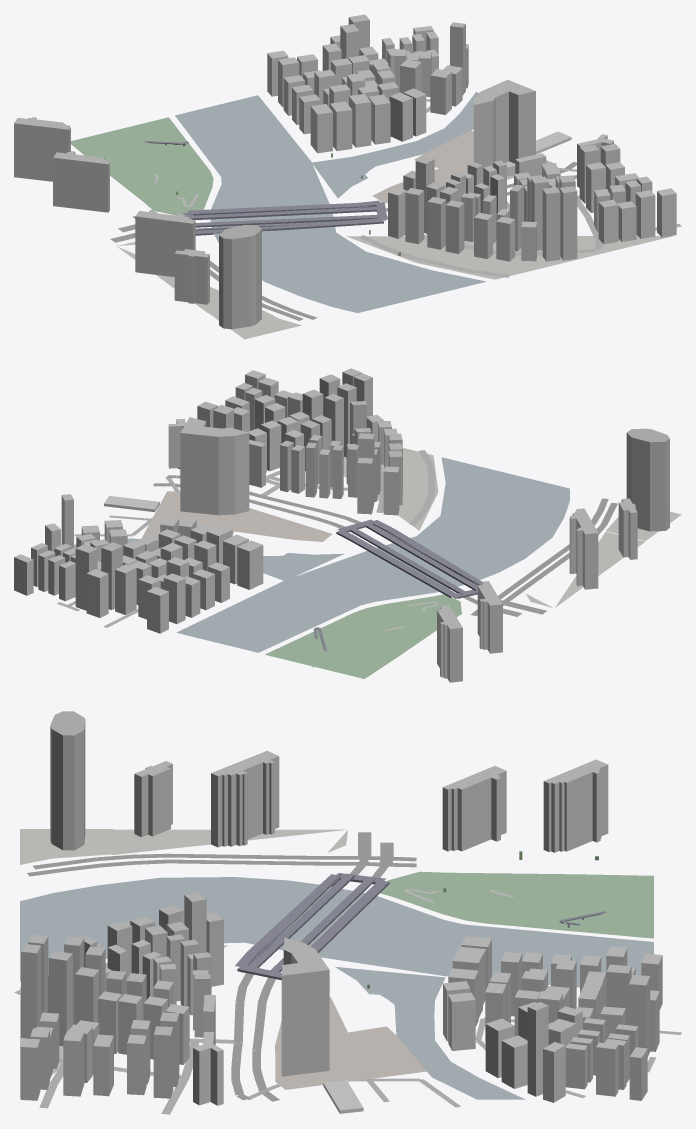
3 renders of one model, top to bottom at view 1: azimuth 30°, elevation 25°; view 2: azimuth 150°, elevation 25°; view 3: azimuth 270°, elevation 25°, orthographic. The views are drawn at different scales.
Bounding box in the file's own units: 544 × 103 × 527.
